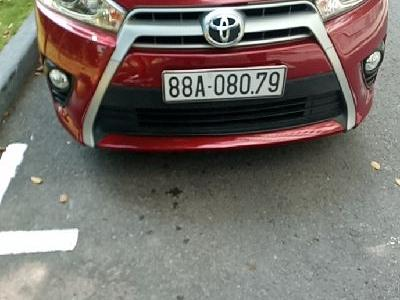lisence: (162, 65, 288, 104)
